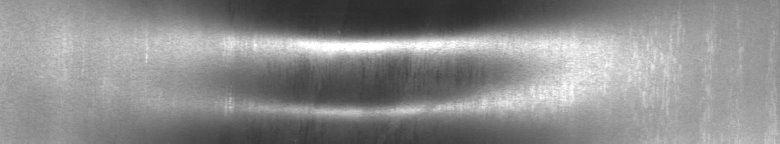ke: (260, 28, 487, 124)
